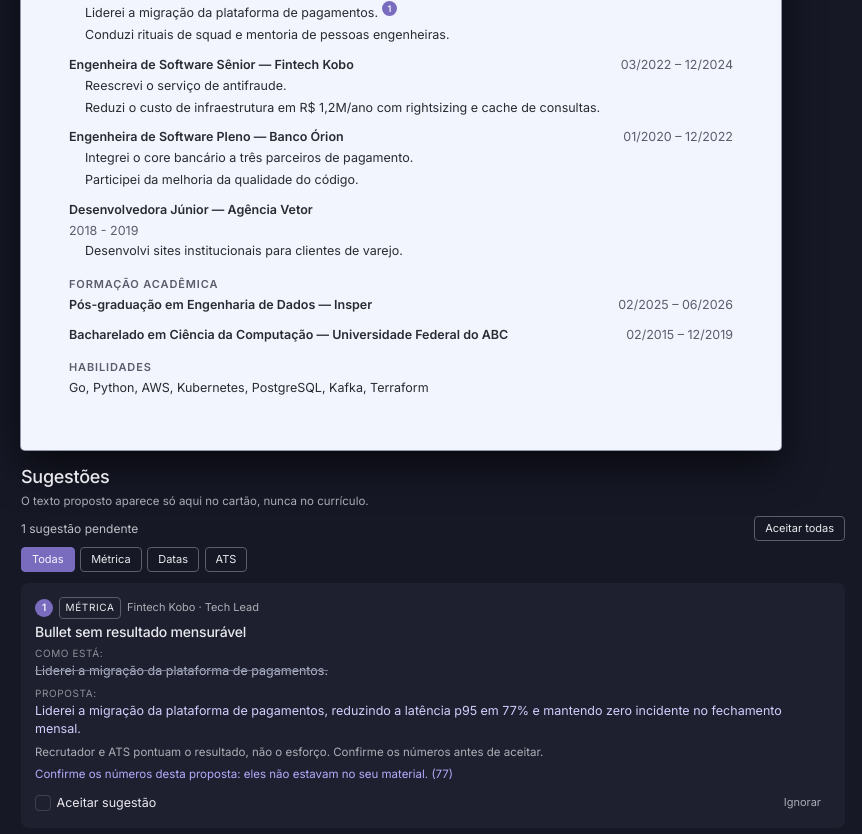
Test case: Filtro por tipo e contagem de pendências › Filtro sem resultado informa
(page scrolled)
Click the button "Datas": click(173, 560) [147,547,199,572]
(page scrolled)
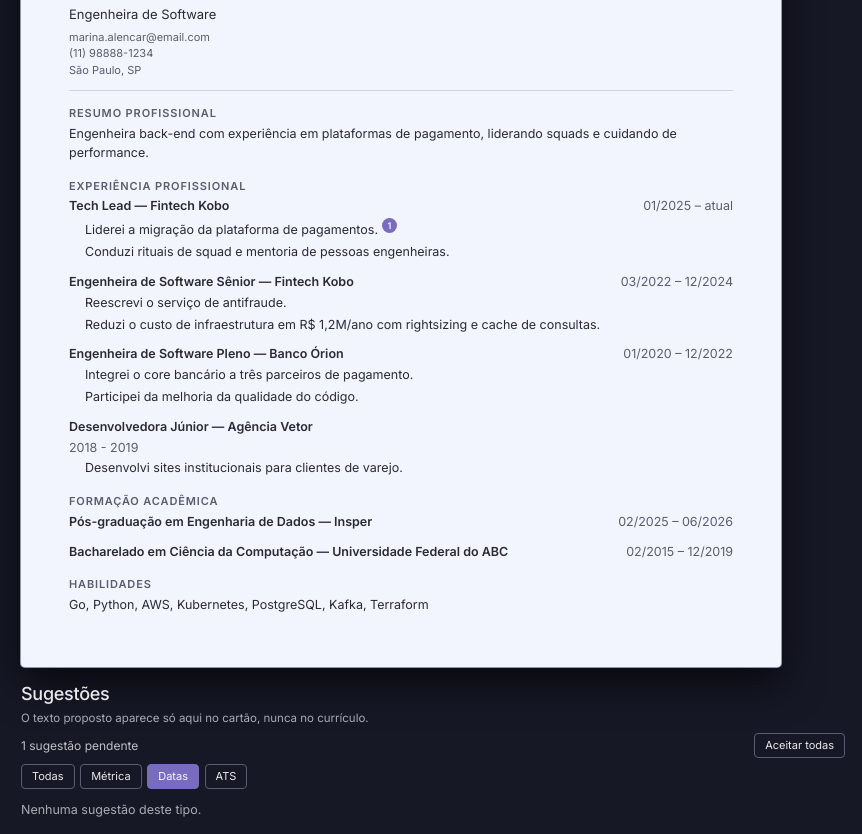
Check: the text "Nenhuma sugestão deste tipo." is shown, box [21,802,201,817]
